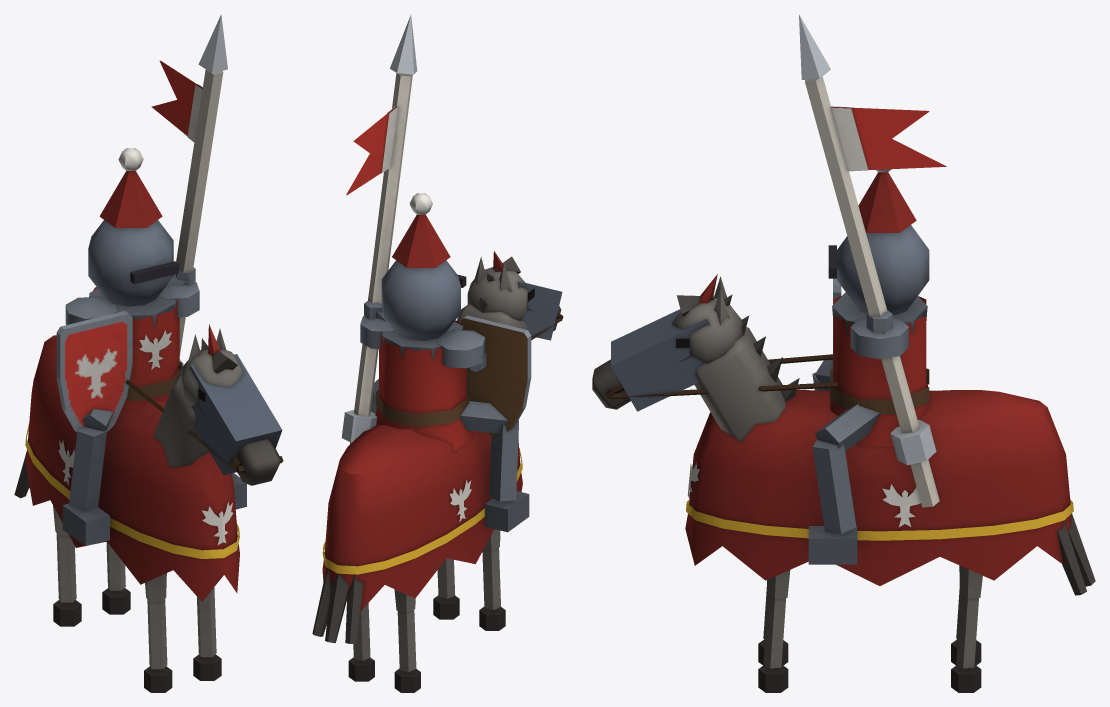
The model's file is assault_dl3_red.glb.
The picture shows the model from 3 angles, left to right: view 1: azimuth 30°, elevation 25°; view 2: azimuth 150°, elevation 25°; view 3: azimuth 270°, elevation 25°; orthographic projection. The views are drawn at different scales.
Parts seen in each view (by area): view 1: assault_dl3_red; view 2: assault_dl3_red; view 3: assault_dl3_red.
Part boxes in pixels (x1,y1,x2,y2): assault_dl3_red: (14, 14, 283, 692); assault_dl3_red: (312, 15, 563, 692); assault_dl3_red: (592, 14, 1095, 692).
Size of the model in its own units: 0.2579 by 0.9039 by 0.6004.
Materials: 1 (1 with a texture image).
